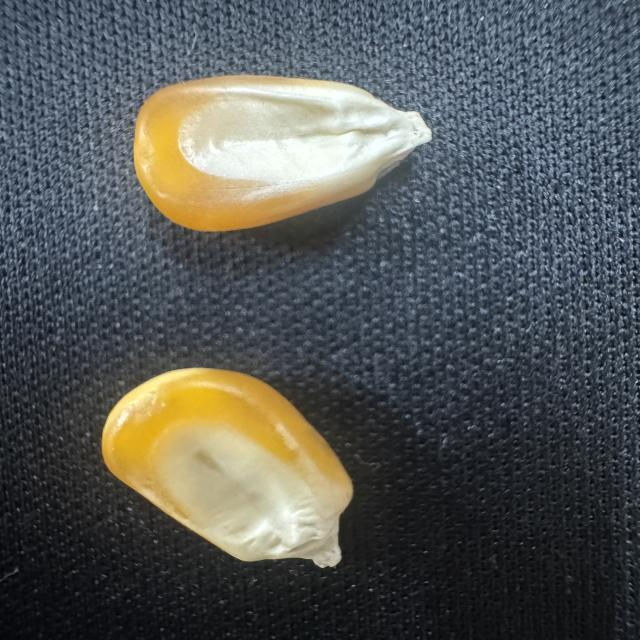Good-Seed: (94, 356, 362, 579), (123, 67, 440, 237)
